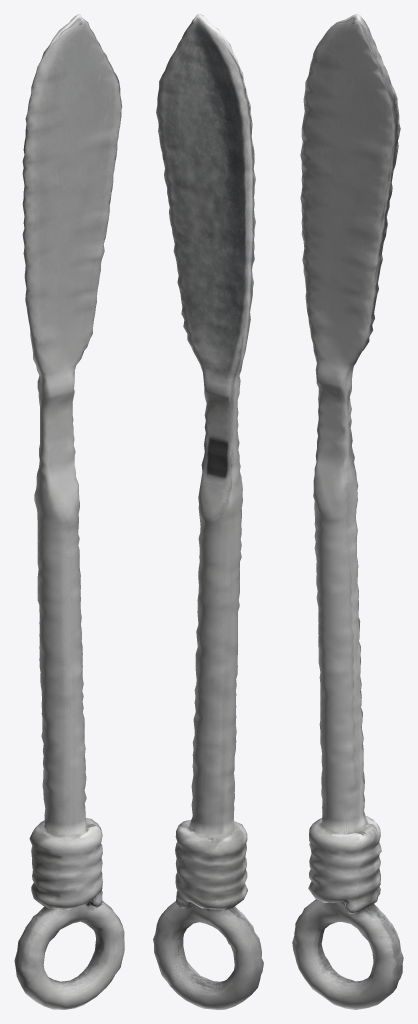
File: como_knife_0308230123_texture.glb
3 renders of one model, left to right at view 1: azimuth 30°, elevation 25°; view 2: azimuth 150°, elevation 25°; view 3: azimuth 330°, elevation 25°, orthographic.
Parts seen in each view (by area): view 1: Mesh_0.004; view 2: Mesh_0.004; view 3: Mesh_0.004.
Boxes of the visible parts, left/top/right/bottom form: Mesh_0.004: left=14, top=14, right=124, bottom=1009; Mesh_0.004: left=153, top=14, right=263, bottom=1009; Mesh_0.004: left=292, top=14, right=403, bottom=1009.
Bounding box in the file's own units: 0.0229 × 0.2032 × 0.0129.
Materials: 1 (1 with a texture image).
